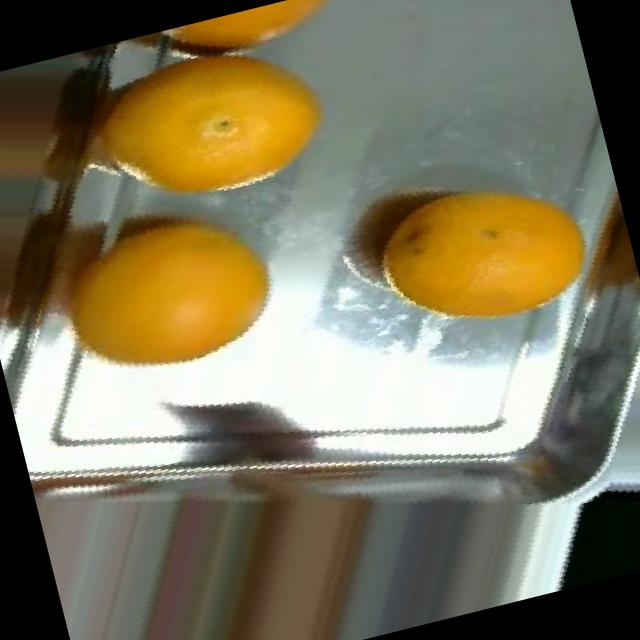Fruit: (513, 450, 640, 595)
